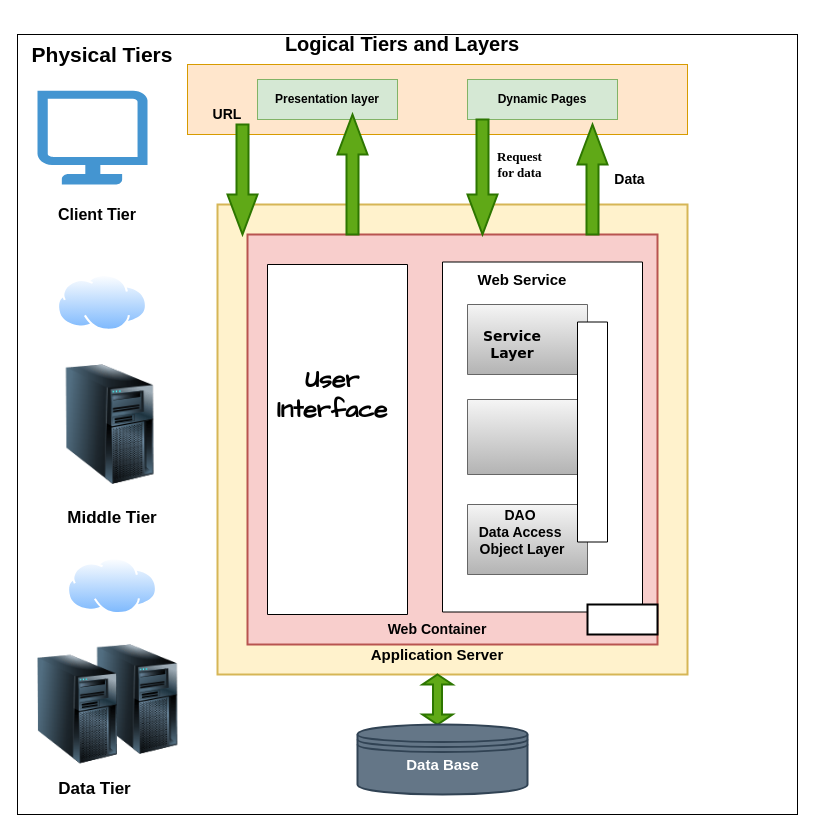
Image size: 815x832. Some labels were removed from this diagram. Here are the shapes that lost their labels. From the top down, the centre of each, then its label:
At point (527, 436): "Pojo: Business Service Layer".
At point (592, 431): "Spring for DI".
At point (622, 619): "Hibernate ORM".
